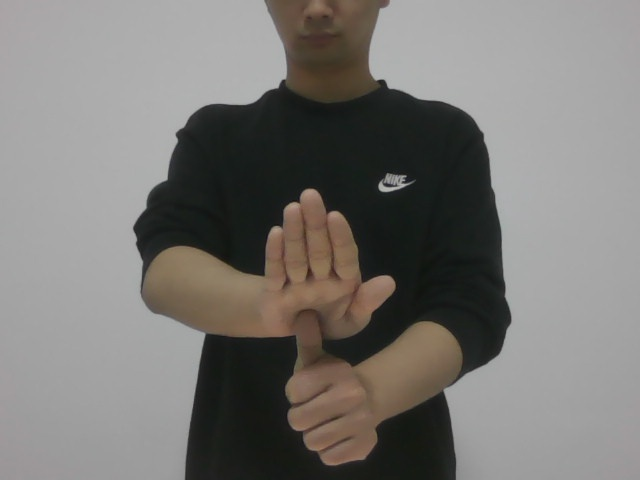love: (260, 182, 402, 464)
